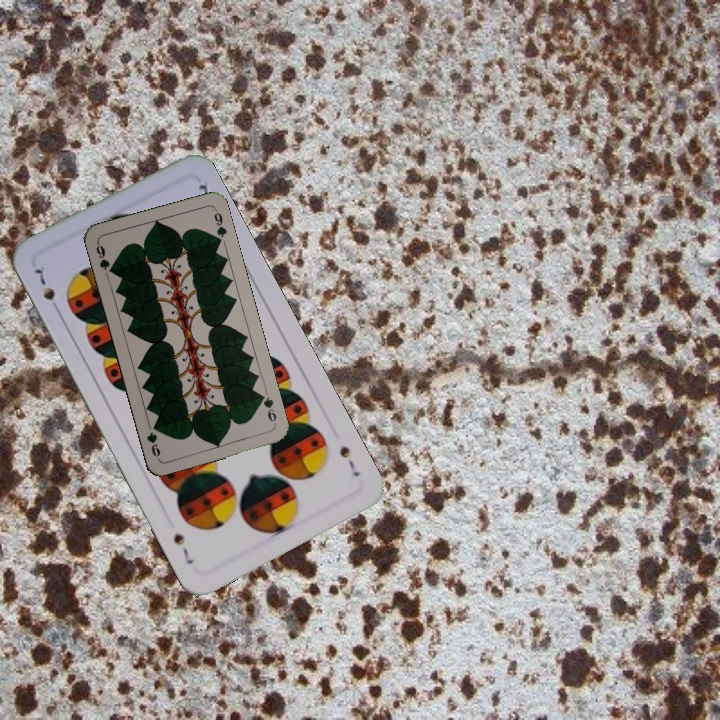G9: (92, 239, 117, 277), (255, 390, 279, 428)
S7: (30, 264, 63, 317), (335, 442, 363, 480)
